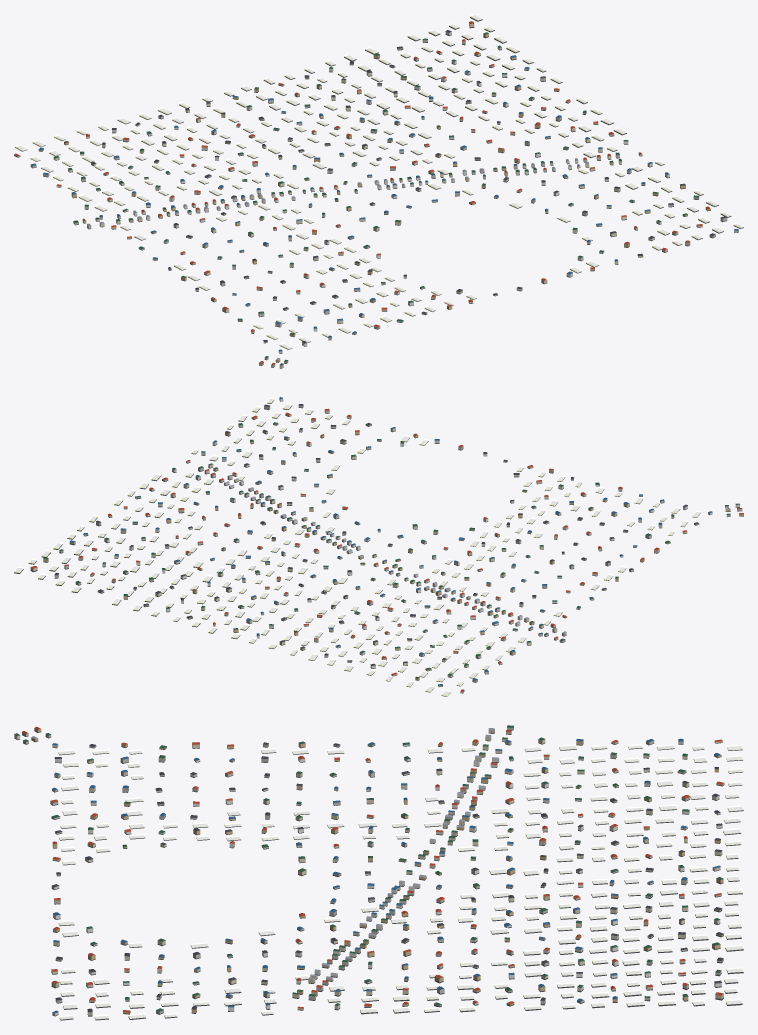
The model's file is buildings_T_W03_N05.glb.
3 renders of one model, top to bottom at view 1: azimuth 30°, elevation 25°; view 2: azimuth 150°, elevation 25°; view 3: azimuth 270°, elevation 25°, orthographic. The views are drawn at different scales.
Visible parts, largest first — view 1: T_W03_N05_roofs_agri_greenhouse_arch, T_W03_N05_slope_seating_foundations, T_W03_N05_walls_wall_modern_warm_white, T_W03_N05_walls_wall_french_ochre_villa, T_W03_N05_walls_wall_pastel_sand_gray, T_W03_N05_walls_wall_dalat_cream_stucco, T_W03_N05_roofs_roof_pine_green_hip, T_W03_N05_roofs_roof_highland_blue_gable, T_W03_N05_roofs_roof_terracotta_gable, T_W03_N05_roofs_roof_slate_French_villa_hip; view 2: T_W03_N05_roofs_agri_greenhouse_arch, T_W03_N05_slope_seating_foundations, T_W03_N05_walls_wall_modern_warm_white, T_W03_N05_walls_wall_dalat_cream_stucco, T_W03_N05_walls_wall_french_ochre_villa, T_W03_N05_walls_wall_pastel_sand_gray, T_W03_N05_roofs_roof_pine_green_hip, T_W03_N05_roofs_roof_highland_blue_gable, T_W03_N05_roofs_roof_terracotta_gable, T_W03_N05_roofs_roof_slate_French_villa_hip; view 3: T_W03_N05_roofs_agri_greenhouse_arch, T_W03_N05_slope_seating_foundations, T_W03_N05_walls_wall_modern_warm_white, T_W03_N05_walls_wall_pastel_sand_gray, T_W03_N05_walls_wall_french_ochre_villa, T_W03_N05_walls_wall_dalat_cream_stucco, T_W03_N05_roofs_roof_pine_green_hip, T_W03_N05_roofs_roof_highland_blue_gable, T_W03_N05_roofs_roof_terracotta_gable, T_W03_N05_roofs_roof_slate_French_villa_hip.
Boxes of the visible parts, box(x1,y1,x2,y2) form: T_W03_N05_roofs_agri_greenhouse_arch: box(15, 14, 743, 349); T_W03_N05_slope_seating_foundations: box(14, 16, 743, 368); T_W03_N05_walls_wall_modern_warm_white: box(56, 31, 738, 368); T_W03_N05_walls_wall_french_ochre_villa: box(38, 33, 710, 365); T_W03_N05_walls_wall_pastel_sand_gray: box(30, 39, 727, 367); T_W03_N05_walls_wall_dalat_cream_stucco: box(14, 23, 702, 342); T_W03_N05_roofs_roof_pine_green_hip: box(54, 32, 699, 365); T_W03_N05_roofs_roof_highland_blue_gable: box(31, 55, 738, 351); T_W03_N05_roofs_roof_terracotta_gable: box(14, 21, 710, 365); T_W03_N05_roofs_roof_slate_French_villa_hip: box(64, 30, 727, 343); T_W03_N05_roofs_agri_greenhouse_arch: box(14, 397, 700, 696); T_W03_N05_slope_seating_foundations: box(14, 399, 743, 696); T_W03_N05_walls_wall_modern_warm_white: box(54, 398, 739, 668); T_W03_N05_walls_wall_dalat_cream_stucco: box(30, 414, 698, 692); T_W03_N05_walls_wall_french_ochre_villa: box(43, 417, 743, 686); T_W03_N05_walls_wall_pastel_sand_gray: box(59, 405, 742, 682); T_W03_N05_roofs_roof_pine_green_hip: box(43, 422, 739, 675); T_W03_N05_roofs_roof_highland_blue_gable: box(70, 397, 712, 685); T_W03_N05_roofs_roof_terracotta_gable: box(31, 408, 743, 691); T_W03_N05_roofs_roof_slate_French_villa_hip: box(54, 404, 698, 678); T_W03_N05_roofs_agri_greenhouse_arch: box(58, 744, 743, 1019); T_W03_N05_slope_seating_foundations: box(14, 729, 743, 1020); T_W03_N05_walls_wall_modern_warm_white: box(14, 734, 722, 1015); T_W03_N05_walls_wall_pastel_sand_gray: box(22, 727, 721, 1015); T_W03_N05_walls_wall_french_ochre_villa: box(31, 728, 723, 1013); T_W03_N05_walls_wall_dalat_cream_stucco: box(51, 735, 724, 1006); T_W03_N05_roofs_roof_pine_green_hip: box(14, 725, 723, 1011); T_W03_N05_roofs_roof_highland_blue_gable: box(52, 738, 721, 1013); T_W03_N05_roofs_roof_terracotta_gable: box(22, 726, 723, 1012); T_W03_N05_roofs_roof_slate_French_villa_hip: box(52, 742, 723, 1012).
Size of the model in its own units: 1829 by 94.86 by 1846.
